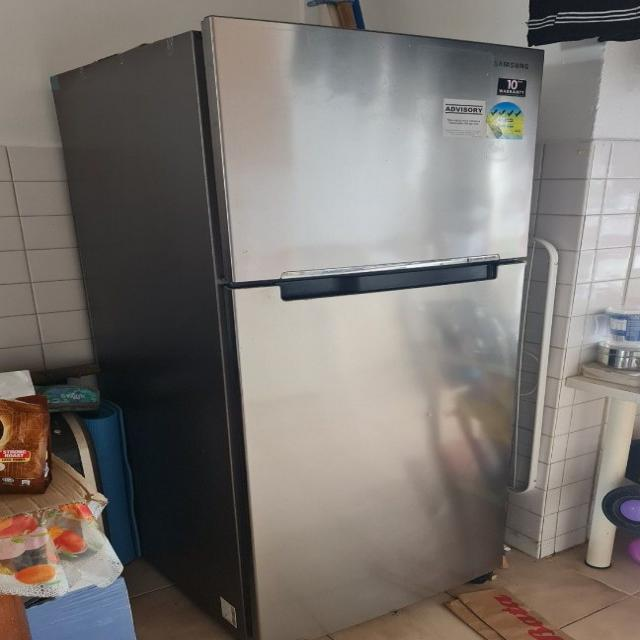refrigerator: (199, 14, 520, 638)
